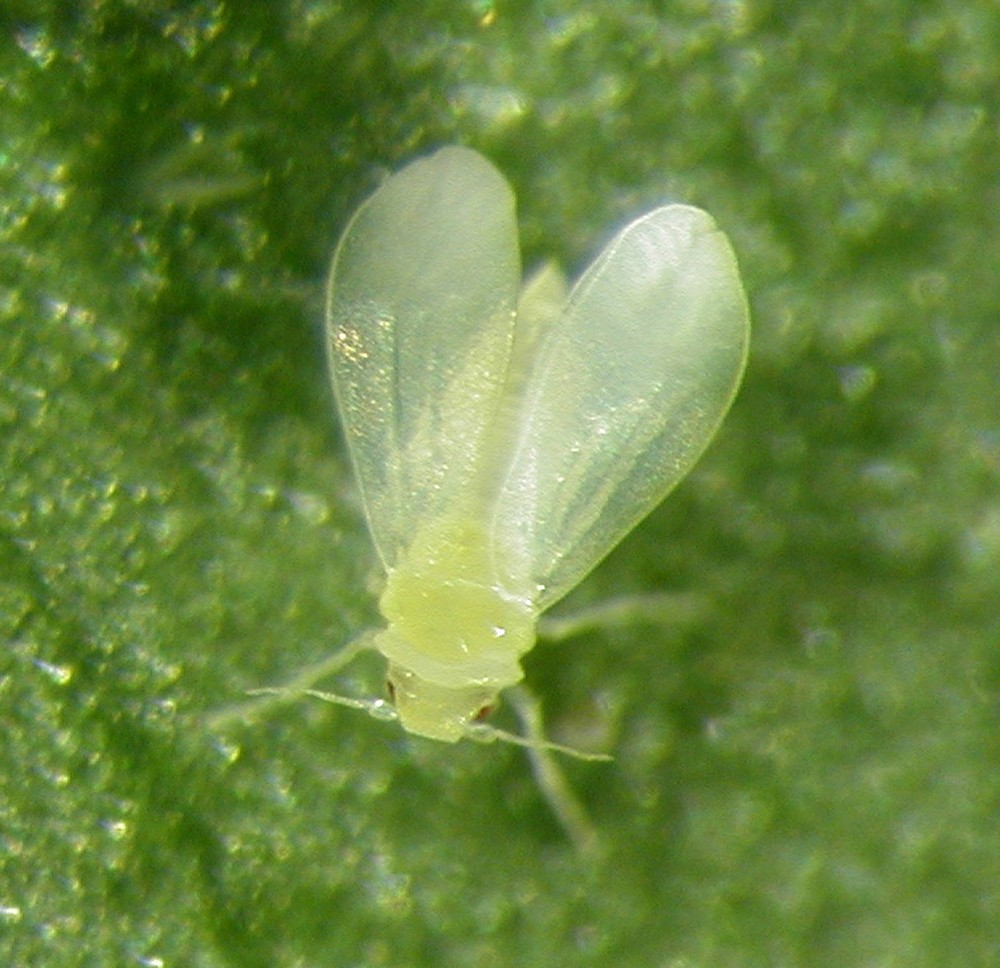Mosca Blanca: (193, 154, 788, 839)
